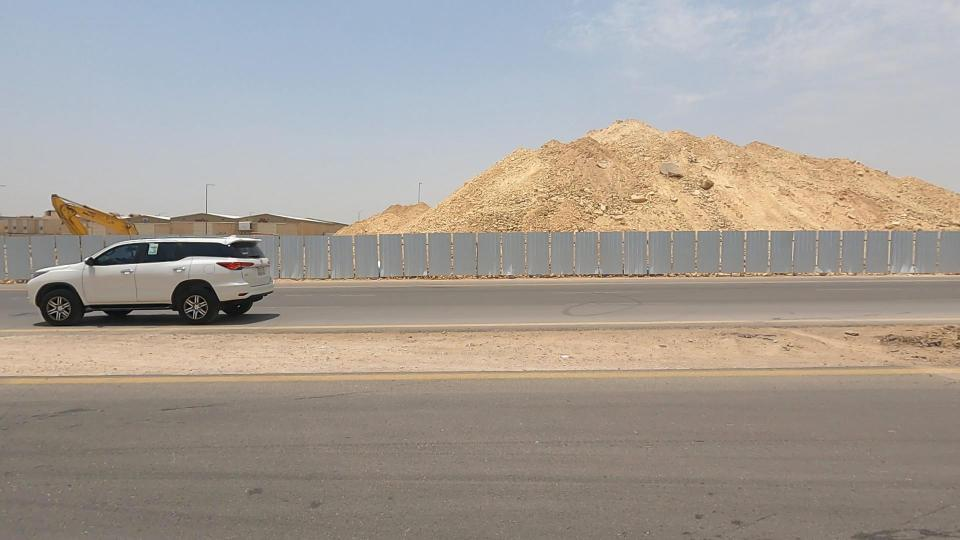CLUTTER_SIDEWALK: (476, 288, 955, 405), (267, 300, 677, 406), (0, 294, 369, 409)
SAND_ON_ROAD: (365, 63, 918, 305)
